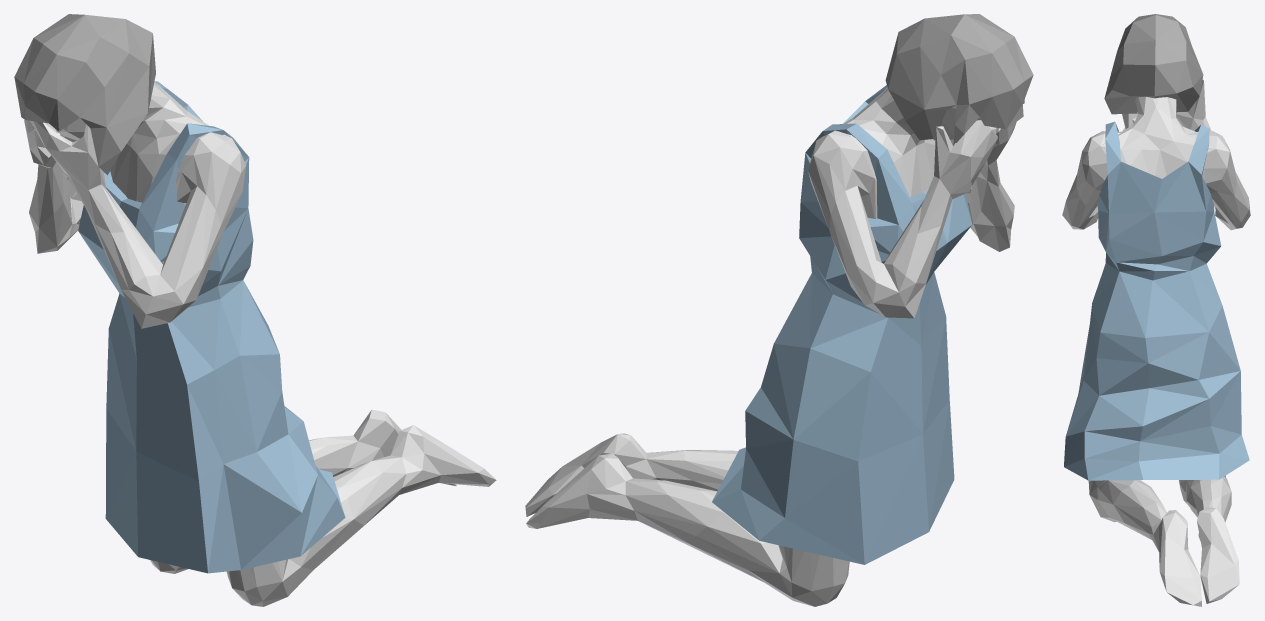
The model's file is female_cry.fbx.
The picture shows the model from 3 angles, left to right: view 1: azimuth 30°, elevation 25°; view 2: azimuth 150°, elevation 25°; view 3: azimuth 270°, elevation 25°; orthographic projection. The views are drawn at different scales.
Visible parts, largest first — view 1: polySurface46; view 2: polySurface46; view 3: polySurface46.
Boxes of the visible parts, x1=… form: polySurface46: x1=14, y1=14, x2=496, y2=606; polySurface46: x1=525, y1=14, x2=1033, y2=606; polySurface46: x1=1062, y1=14, x2=1250, y2=606.
Size of the model in its own units: 97.22 by 117 by 44.02.
